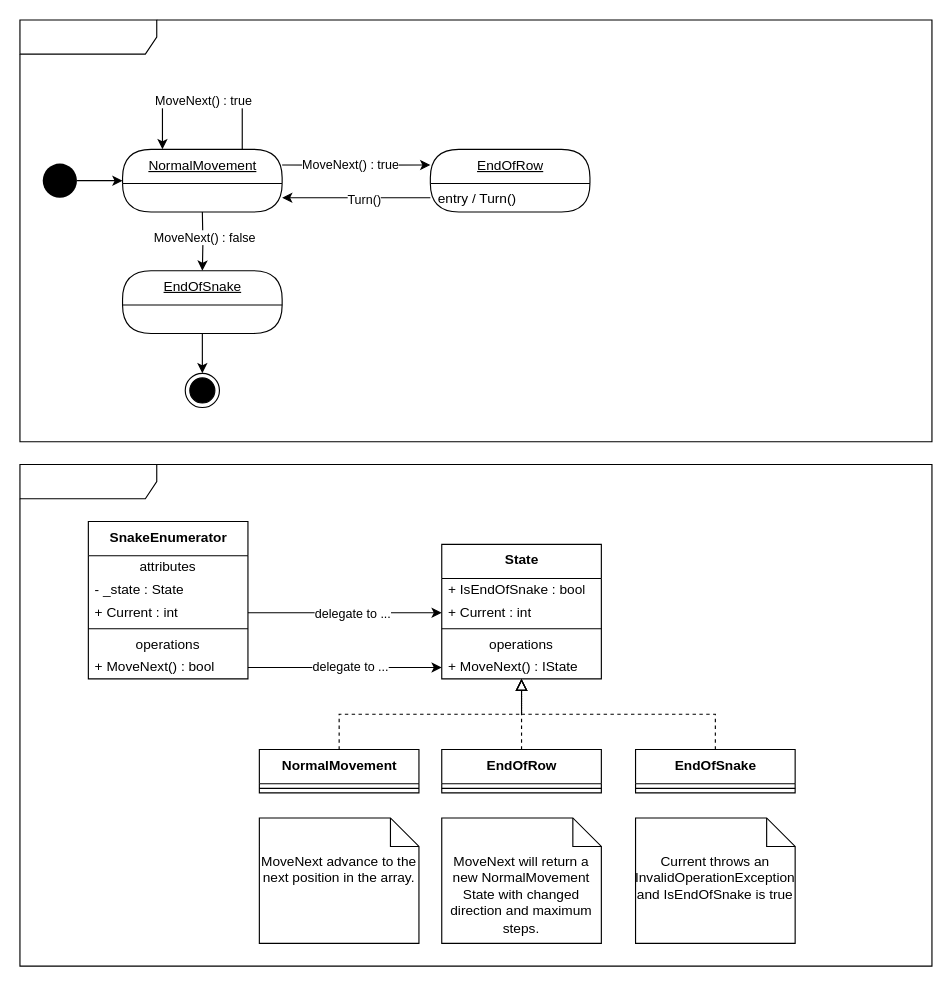
This 952x986 diagram has some shape labels left out. Here are the shapes that lost their labels. From the top down, the centre of each, then its label:
At (475,230): "State machine".
At (475,714): "Class Diagram".
